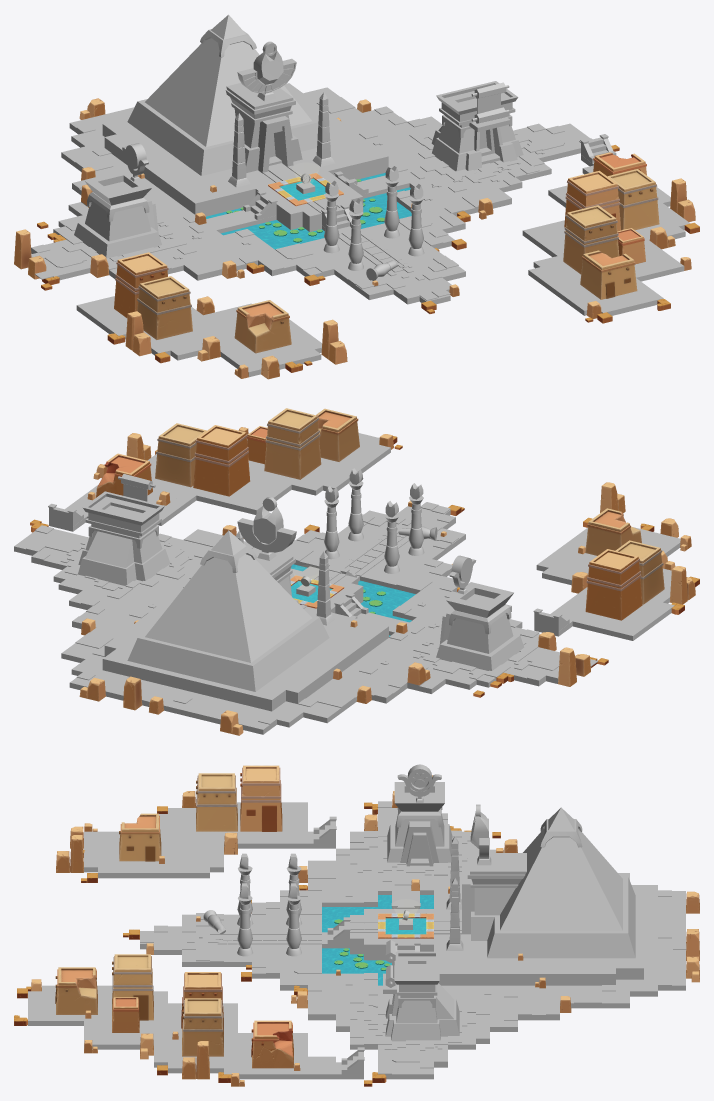
3 views of the same model, one above another, from view 1: azimuth 30°, elevation 25°; view 2: azimuth 150°, elevation 25°; view 3: azimuth 270°, elevation 25° (orthographic).
Parts seen in each view (by area): view 1: nen1, Nha_Meo, NhaPhu1, O_Nen_L1, O1, Da1, Nha_Sach, Nha_Tien, Tru1, Water, CauThanh1, GachDai1 (+2 smaller); view 2: nen1, Nha_Meo, NhaPhu1, O_Nen_L1, O1, Da1, Nha_Sach, Nha_Tien, Tru1, CauThanh1, Water, GachDai1; view 3: nen1, Nha_Meo, NhaPhu1, O_Nen_L1, O1, Da1, Nha_Sach, Nha_Tien, Tru1, Water, CauThanh1, GachDai1 (+1 smaller).
Part boxes in pixels (left/top/right/bottom): nen1: left=31, top=83, right=690, bottom=377; Nha_Meo: left=127, top=14, right=318, bottom=175; NhaPhu1: left=114, top=152, right=659, bottom=353; O_Nen_L1: left=31, top=97, right=592, bottom=300; O1: left=102, top=90, right=388, bottom=231; Da1: left=14, top=98, right=699, bottom=379; Nha_Sach: left=431, top=81, right=523, bottom=171; Nha_Tien: left=74, top=143, right=161, bottom=258; Tru1: left=228, top=92, right=424, bottom=280; Water: left=206, top=173, right=411, bottom=249; CauThanh1: left=243, top=134, right=616, bottom=228; GachDai1: left=263, top=165, right=401, bottom=275; nen1: left=14, top=433, right=680, bottom=734; Nha_Meo: left=127, top=497, right=329, bottom=691; NhaPhu1: left=96, top=408, right=664, bottom=620; O_Nen_L1: left=26, top=502, right=597, bottom=724; O1: left=102, top=566, right=388, bottom=711; Da1: left=30, top=427, right=699, bottom=735; Nha_Sach: left=78, top=474, right=170, bottom=585; Nha_Tien: left=436, top=555, right=524, bottom=670; Tru1: left=235, top=468, right=437, bottom=625; CauThanh1: left=48, top=503, right=569, bottom=631; Water: left=291, top=564, right=415, bottom=636; GachDai1: left=300, top=536, right=409, bottom=608; nen1: left=28, top=802, right=685, bottom=1079; Nha_Meo: left=462, top=804, right=635, bottom=958; NhaPhu1: left=55, top=765, right=293, bottom=1068; O_Nen_L1: left=140, top=801, right=686, bottom=1074; O1: left=350, top=879, right=643, bottom=985; Da1: left=14, top=775, right=699, bottom=1086; Nha_Sach: left=383, top=940, right=459, bottom=1041; Nha_Tien: left=387, top=764, right=452, bottom=866; Tru1: left=203, top=836, right=463, bottom=956; Water: left=322, top=895, right=433, bottom=985; CauThanh1: left=313, top=816, right=420, bottom=1074; GachDai1: left=210, top=918, right=461, bottom=944.
Bounding box in the file's own units: 29.65 × 6.74 × 30.38.
